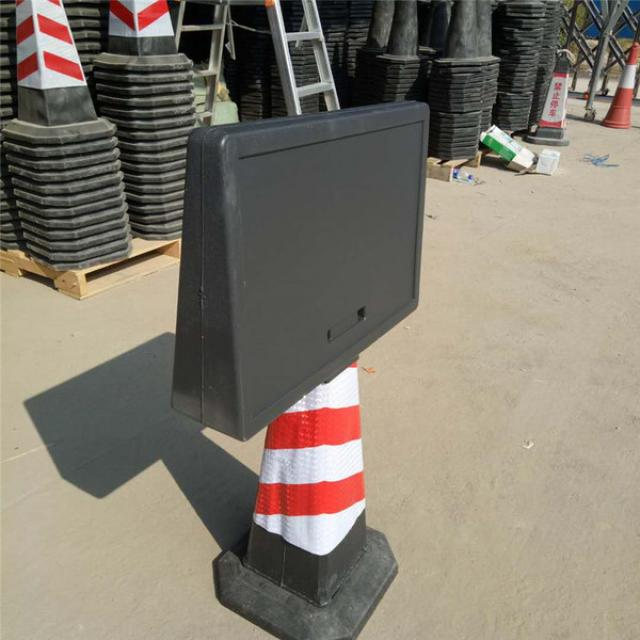reflective_cone: (215, 352, 400, 639), (4, 7, 113, 141), (524, 49, 572, 145), (597, 39, 637, 130)
